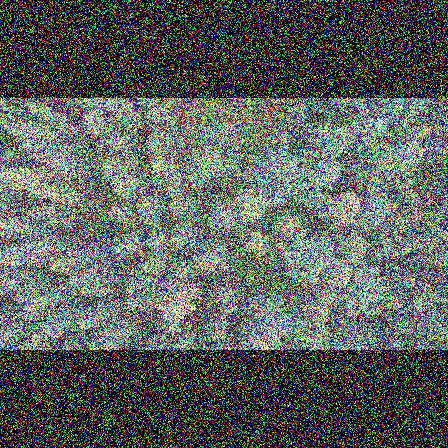Sick: (406, 290, 438, 316), (168, 258, 198, 285), (159, 318, 186, 343), (156, 274, 179, 298), (17, 296, 40, 320)
